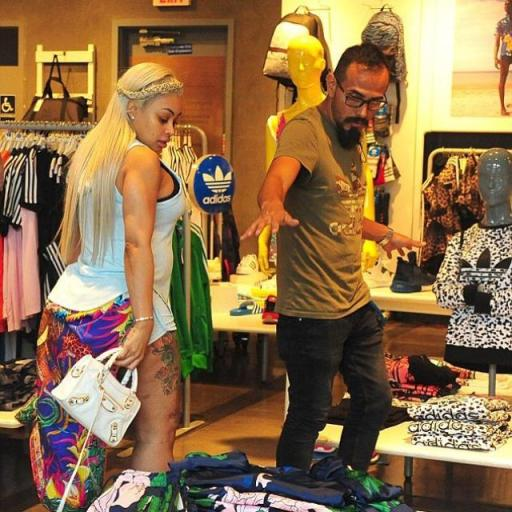Adidas: (194, 155, 234, 205)
